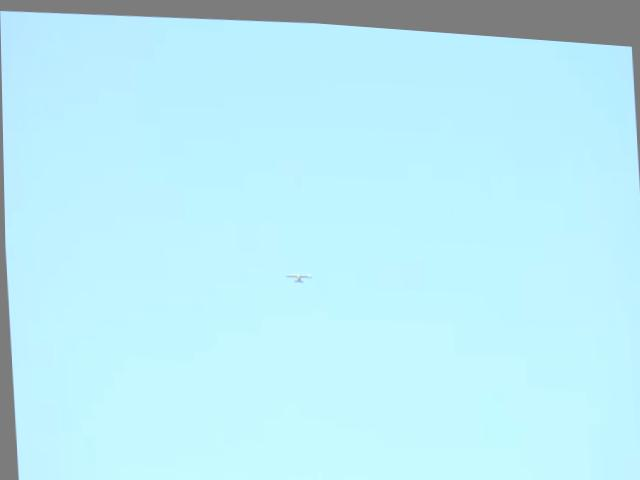plane: (283, 268, 313, 279)
